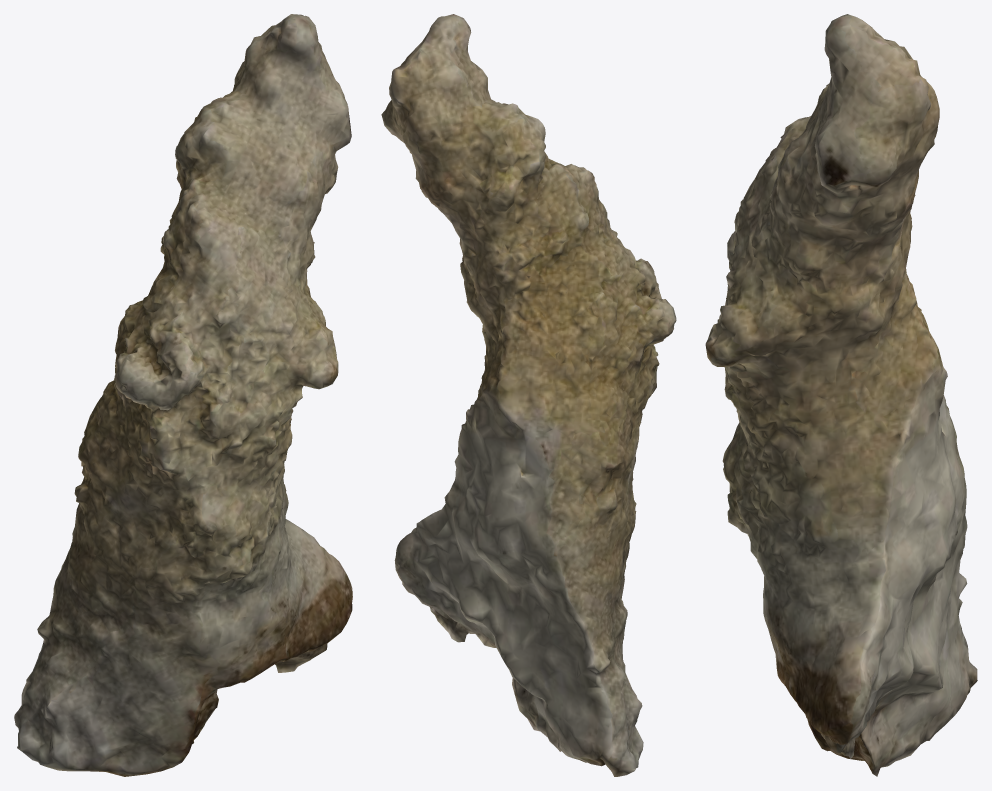
The model's file is coral_acropora.glb.
3 views of the same model, side by side, from view 1: azimuth 30°, elevation 25°; view 2: azimuth 150°, elevation 25°; view 3: azimuth 270°, elevation 25° (orthographic). The views are drawn at different scales.
Parts seen in each view (by area): view 1: Acropora_palifera_forma_beta-100k; view 2: Acropora_palifera_forma_beta-100k; view 3: Acropora_palifera_forma_beta-100k.
Part boxes in pixels (x1,y1,x2,y2): Acropora_palifera_forma_beta-100k: [14, 14, 352, 776]; Acropora_palifera_forma_beta-100k: [381, 14, 676, 776]; Acropora_palifera_forma_beta-100k: [705, 14, 977, 776].
Bounding box in the file's own units: 0.1177 × 0.2791 × 0.0832.
1 material, 1 textured.
